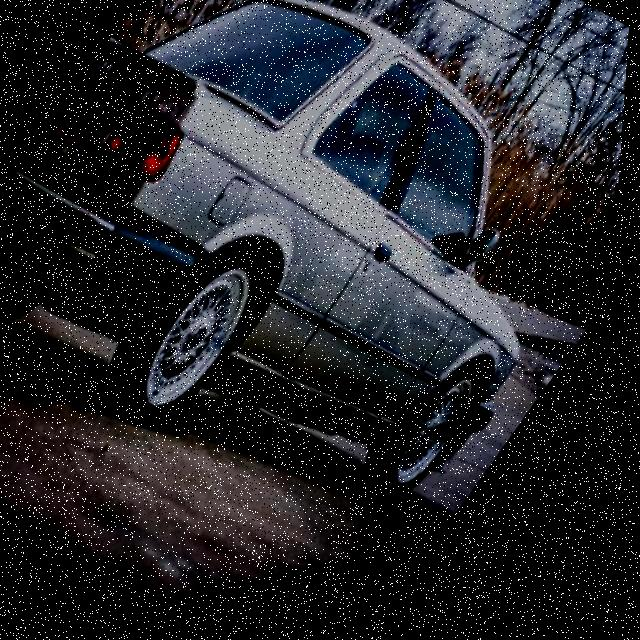license_plate: (36, 90, 106, 168)
